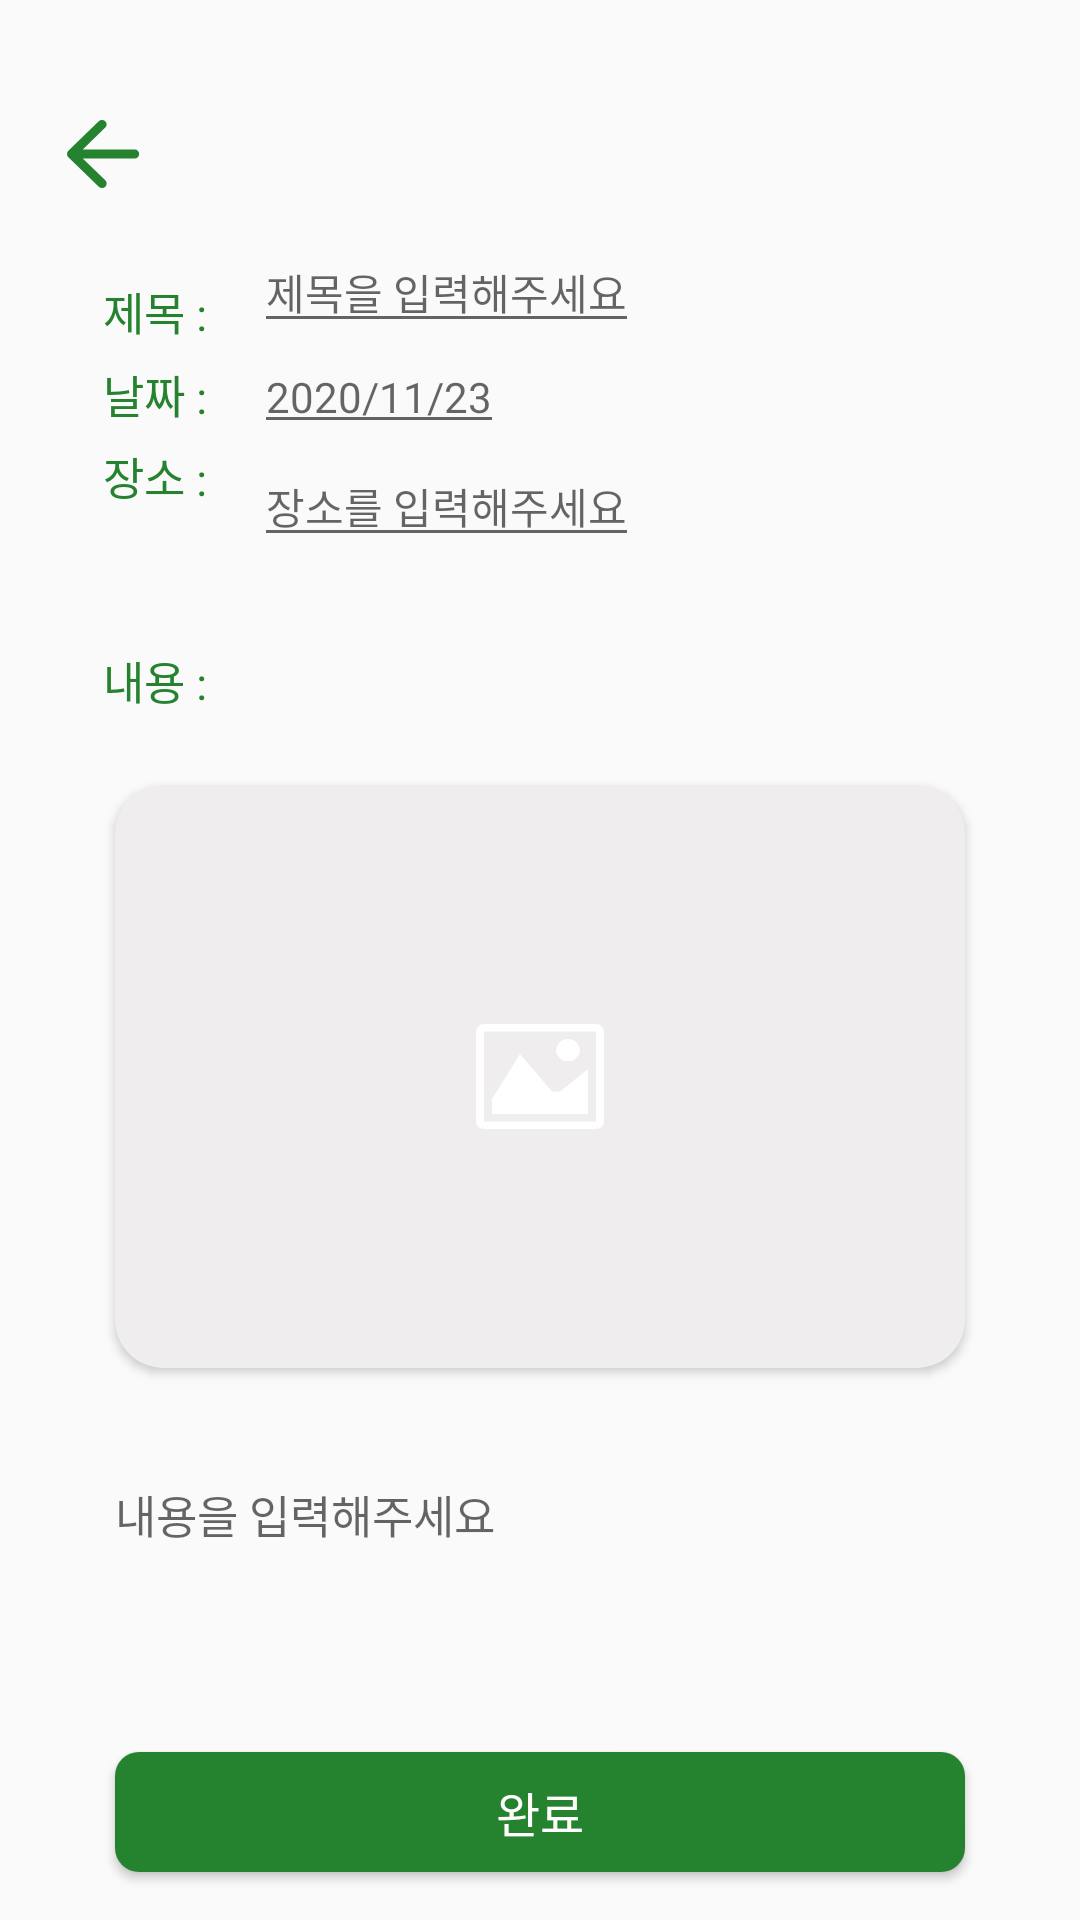

Icon bounding boxes for this 1080 x 1920 phone screenshot, format (x1, y1, x2, y2):
back: (67, 120, 139, 188)
